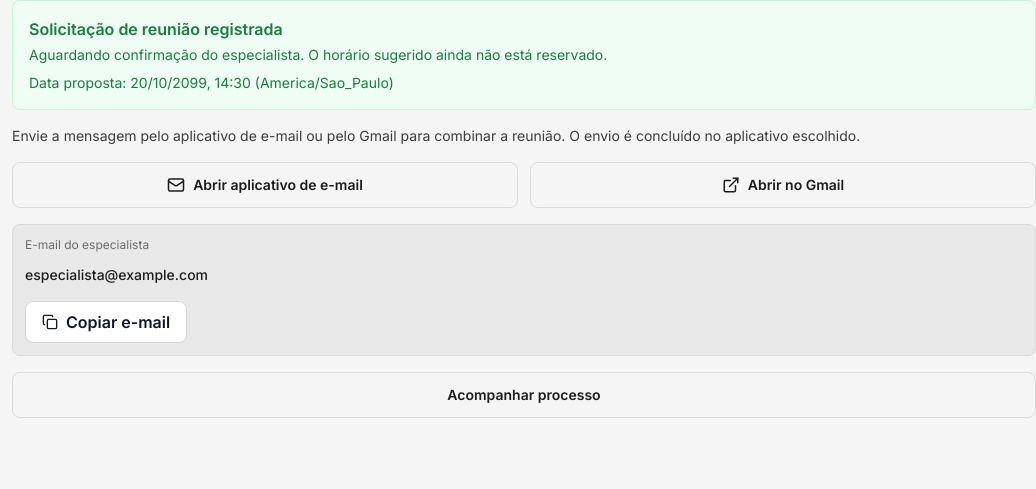
Test case: EmailSchedulingSuccess › announces unavailable clipboard failure while preserving a selectable address
Click the button "Copiar e-mail".
click(106, 322)  # box [25,301,187,343]
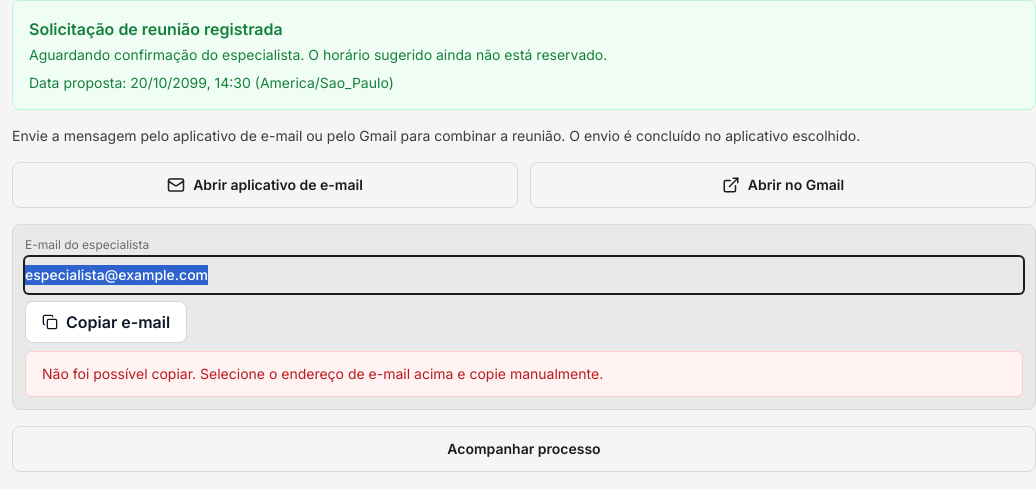
Check: the 2nd message shows "Não foi possível copiar", box [42,365,603,382]
